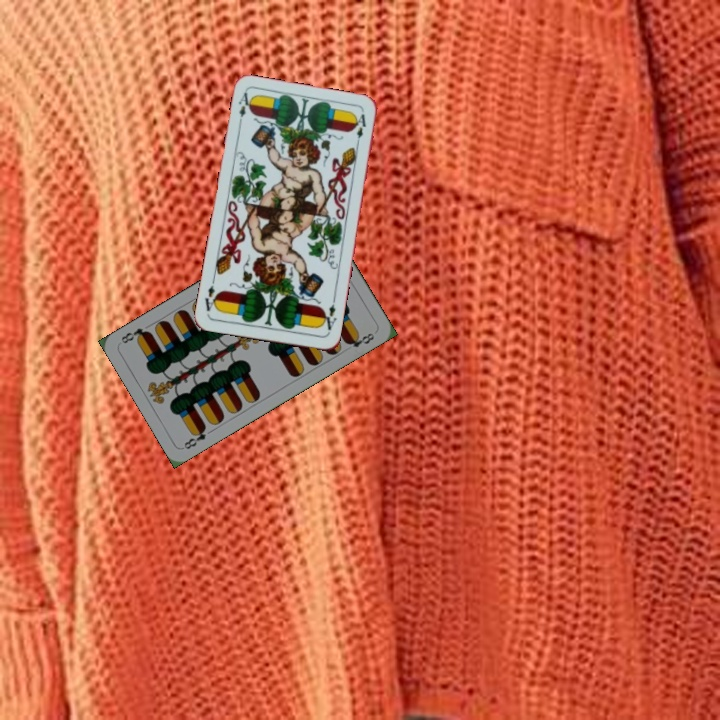E8: (180, 422, 209, 452)
EA: (318, 295, 339, 336), (234, 88, 255, 129)
